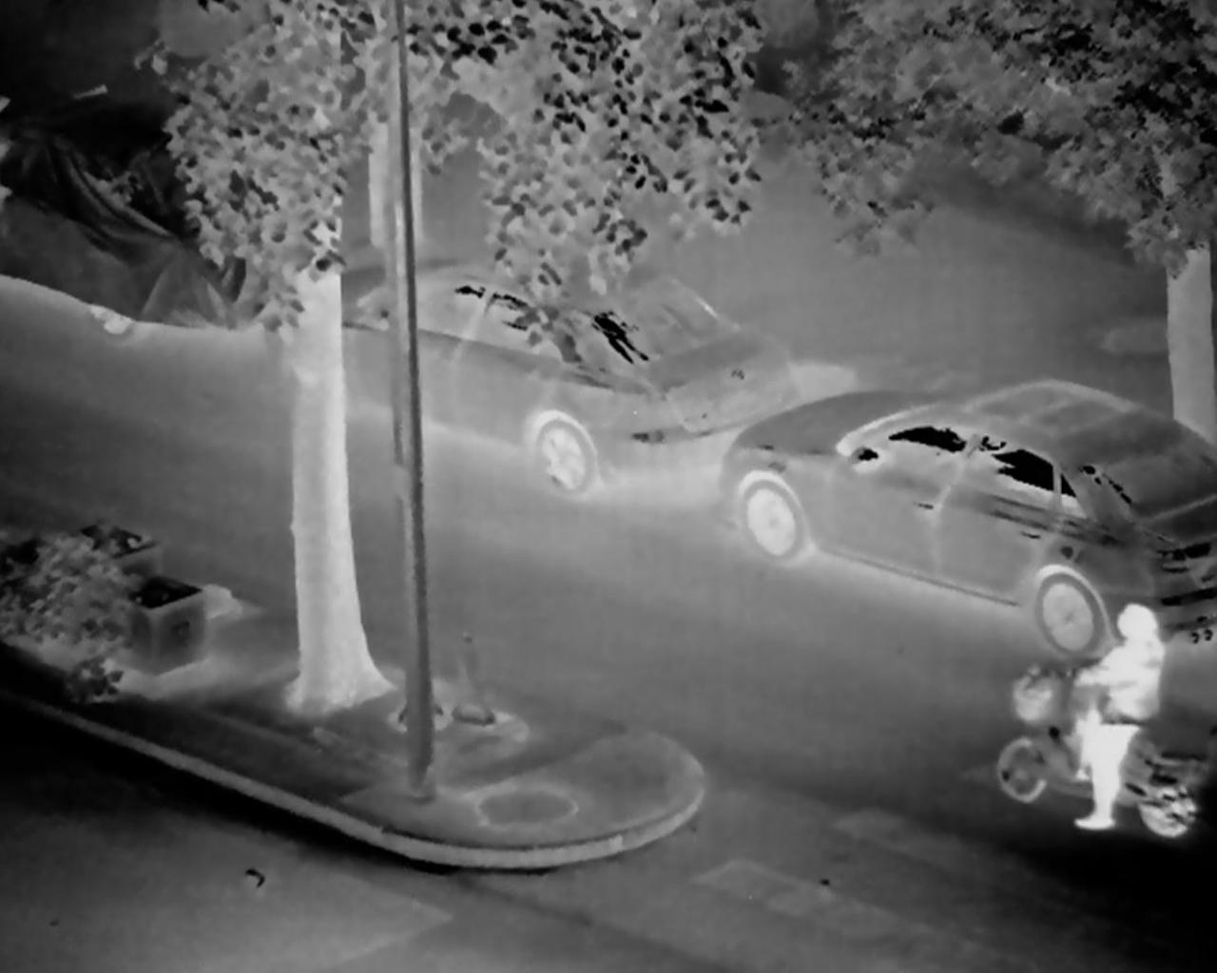person: (1069, 604, 1171, 834)
